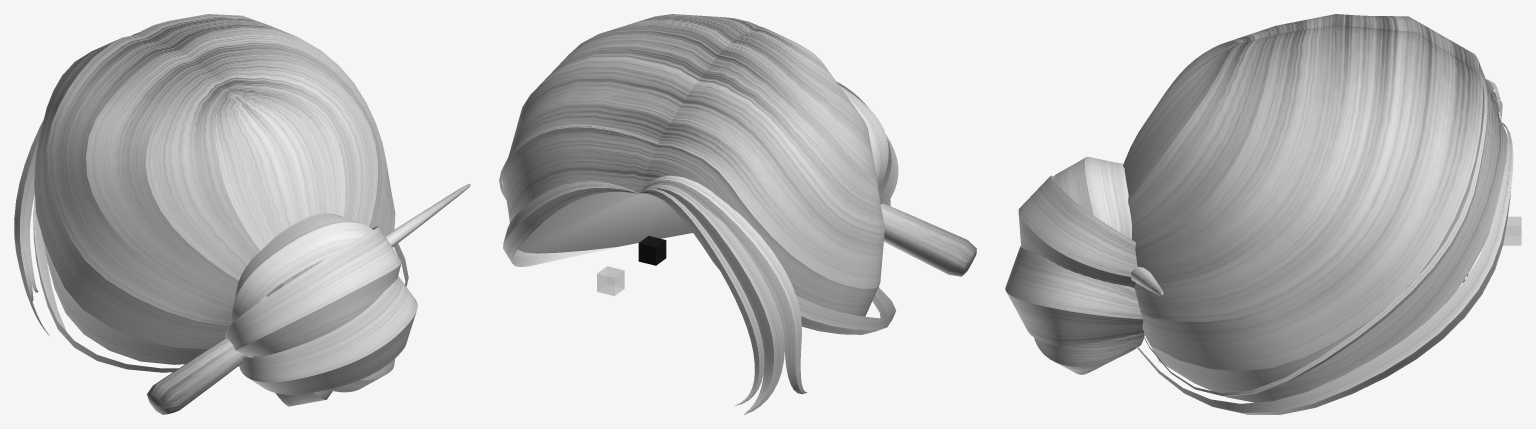
Rendered from acc.glb.
The picture shows the model from 3 angles, left to right: view 1: azimuth 30°, elevation 25°; view 2: azimuth 150°, elevation 25°; view 3: azimuth 270°, elevation 25°; orthographic projection. The views are drawn at different scales.
Parts seen in each view (by area): view 1: Handle; view 2: Handle, Очки, Линзы; view 3: Handle, Линзы.
Part boxes in pixels (left/top/right/bottom): Handle: left=14, top=14, right=470, bottom=414; Handle: left=499, top=14, right=976, bottom=414; Очки: left=638, top=236, right=666, bottom=265; Линзы: left=597, top=266, right=624, bottom=295; Handle: left=1005, top=14, right=1513, bottom=414; Линзы: left=1503, top=217, right=1521, bottom=245.
Bounding box in the file's own units: 1.65 × 1.31 × 1.85.
Materials: 3 (1 with a texture image).
